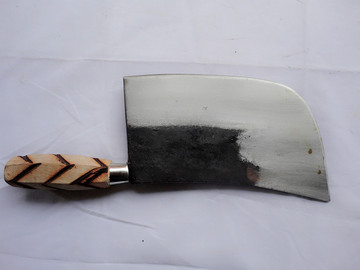knief: (7, 68, 339, 183)
